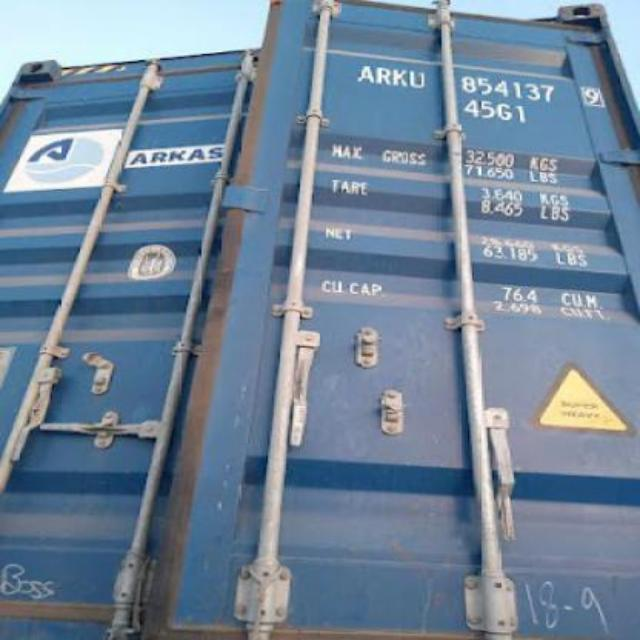1: (512, 80, 526, 100)
3: (524, 81, 542, 102)
4: (490, 76, 510, 96)
5: (476, 74, 492, 96)
7: (536, 84, 558, 105)
8: (462, 75, 478, 91)
9: (586, 87, 602, 105)
A: (358, 64, 372, 82)
K: (394, 68, 408, 88)
R: (374, 66, 392, 86)
U: (411, 68, 424, 90)
